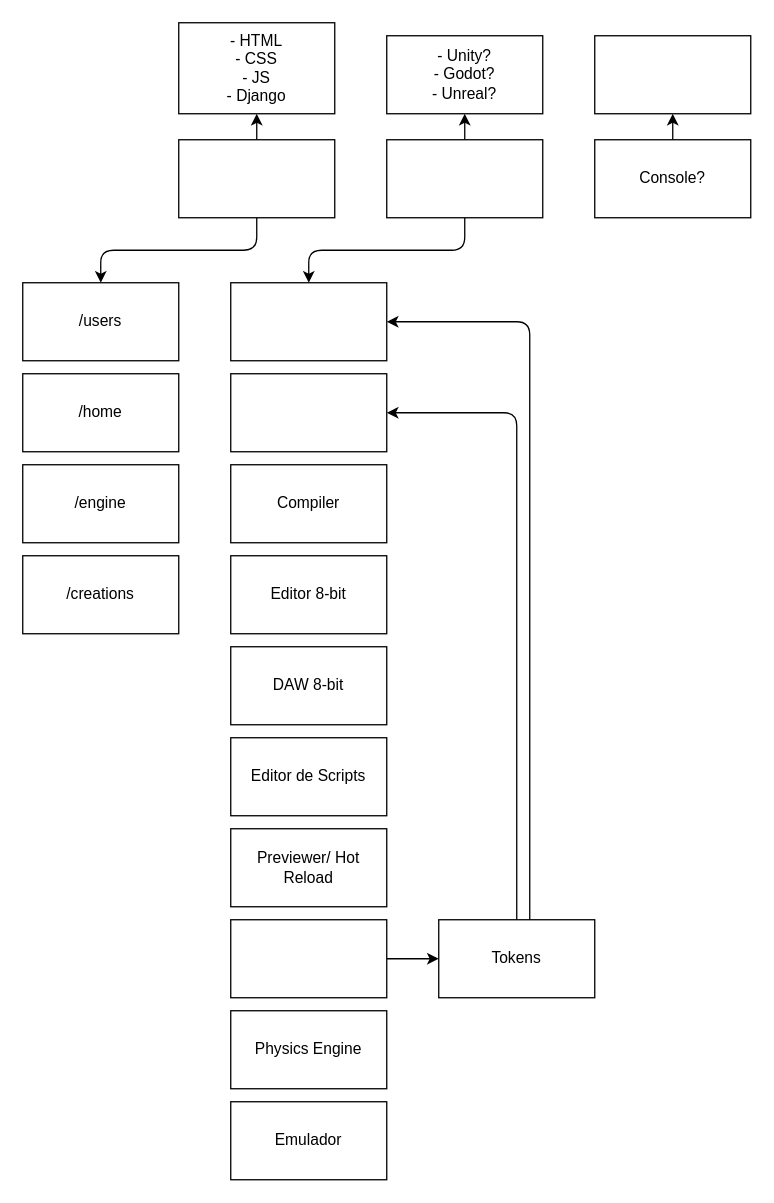
Some shapes in this 774 by 1203 pixel diagram are drawn without their labels. Here are the shapes that lost their labels. From the top down, the box of each, then its label:
(593, 34, 751, 114): Pi 4 Periféricos
(177, 138, 335, 218): Plataforma Web
(385, 138, 543, 218): Game Engine
(229, 281, 387, 361): Parser
(229, 372, 387, 452): Transpiler
(229, 918, 387, 998): Linguagem
